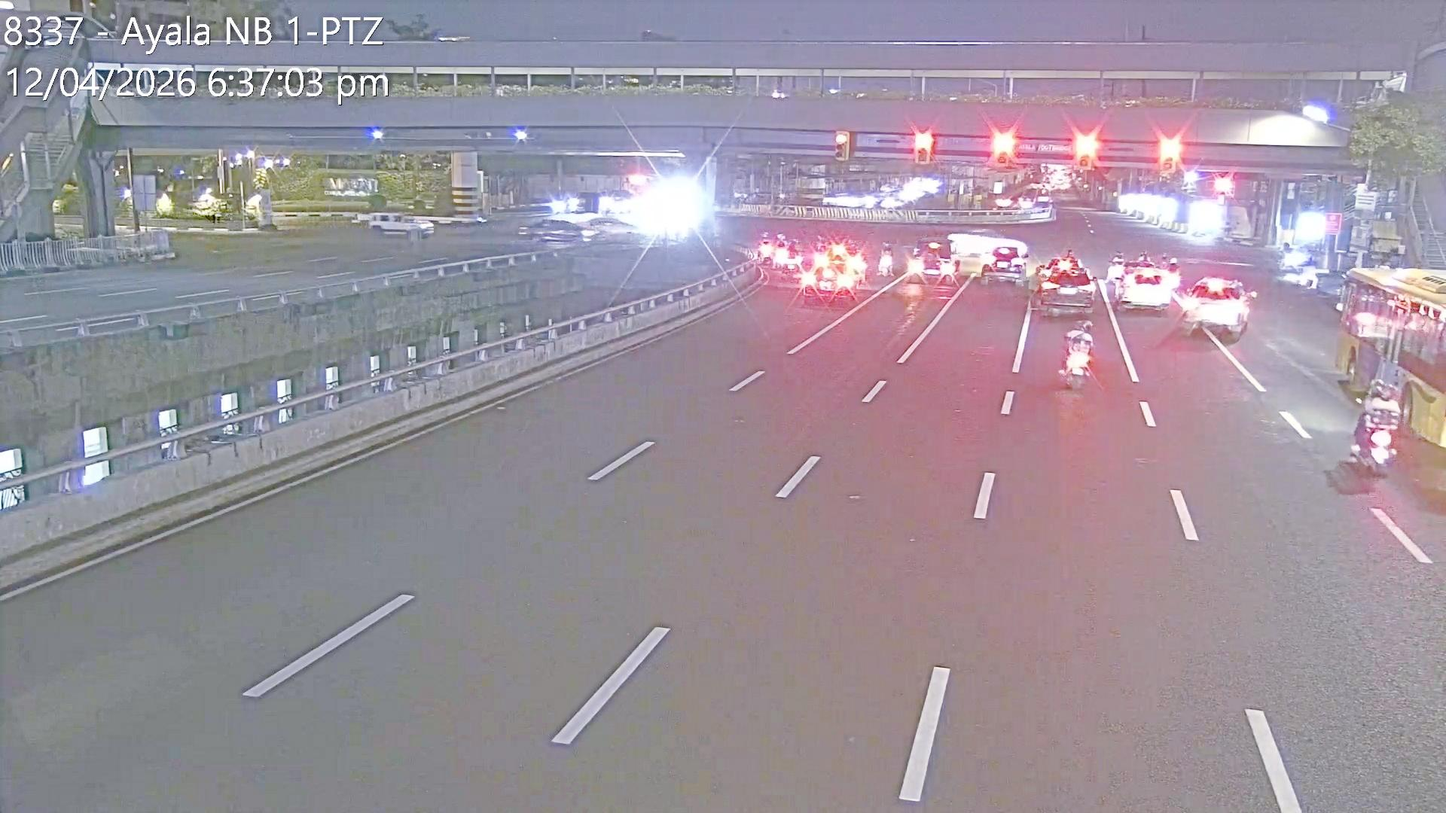Car: (1173, 275, 1255, 340), (1042, 266, 1097, 315), (911, 233, 960, 283), (1114, 268, 1169, 312), (806, 258, 858, 303), (981, 241, 1030, 286), (517, 218, 588, 245), (362, 212, 433, 237), (582, 217, 642, 244), (1042, 256, 1084, 279)
Motor: (1353, 373, 1396, 476), (1058, 327, 1093, 390), (781, 239, 803, 282), (878, 238, 896, 277), (773, 233, 789, 269), (759, 230, 773, 268), (1108, 250, 1123, 283), (1168, 256, 1182, 288), (831, 237, 845, 262)
Not Accident: (1040, 251, 1099, 317), (1110, 248, 1170, 310), (808, 236, 859, 304), (758, 230, 804, 282)
